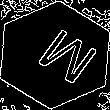M_SW: (18, 21, 92, 89)
